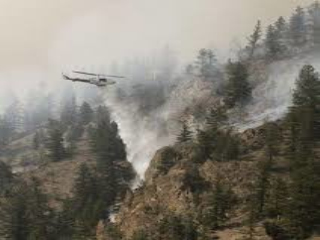smoke: (237, 55, 315, 130)
